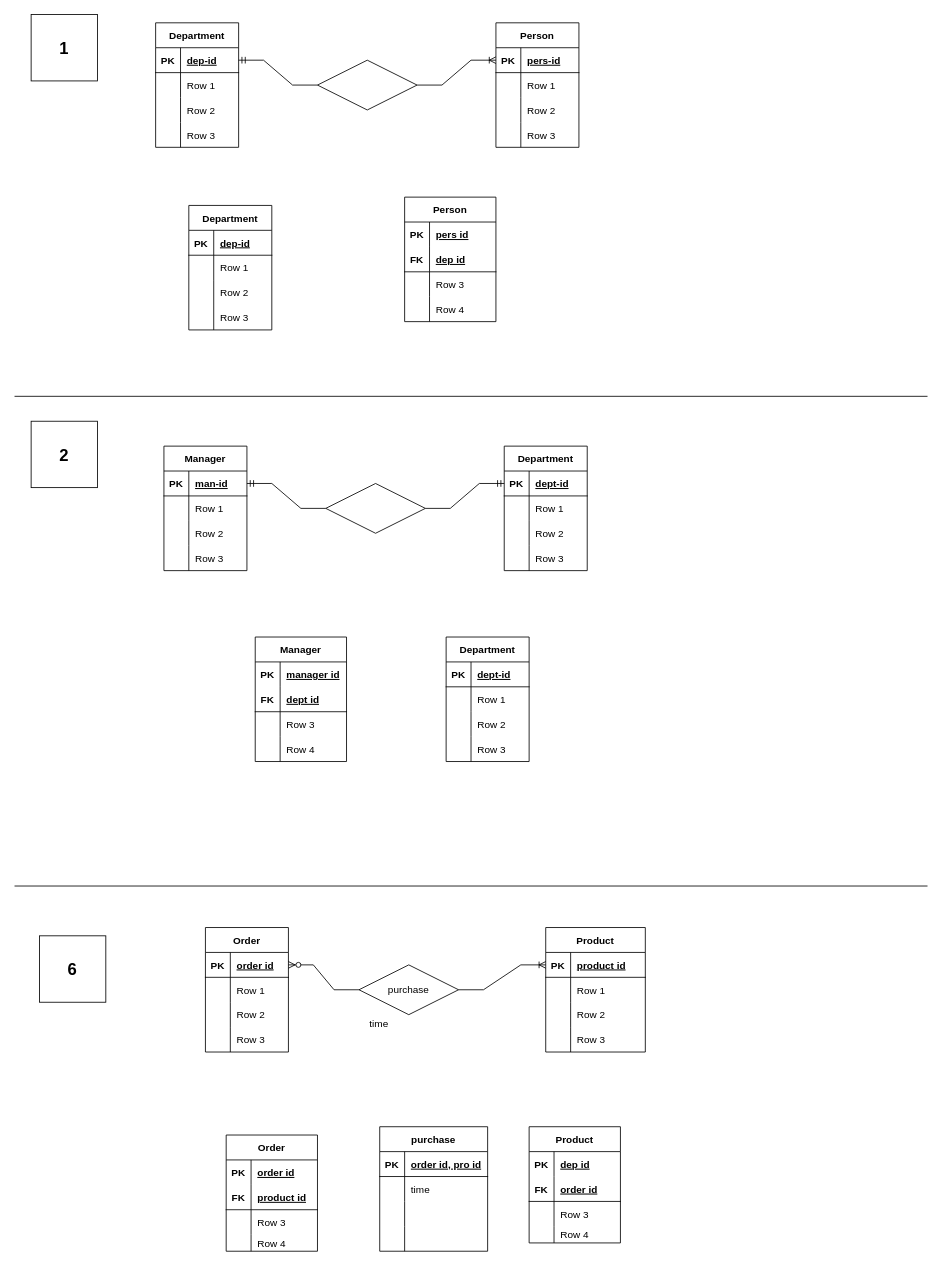
Image size: 943x1266. Some labels were removed from this diagram. Each missing label, with the centre of its shape:
employ: point (367, 84)
manages: point (375, 508)
